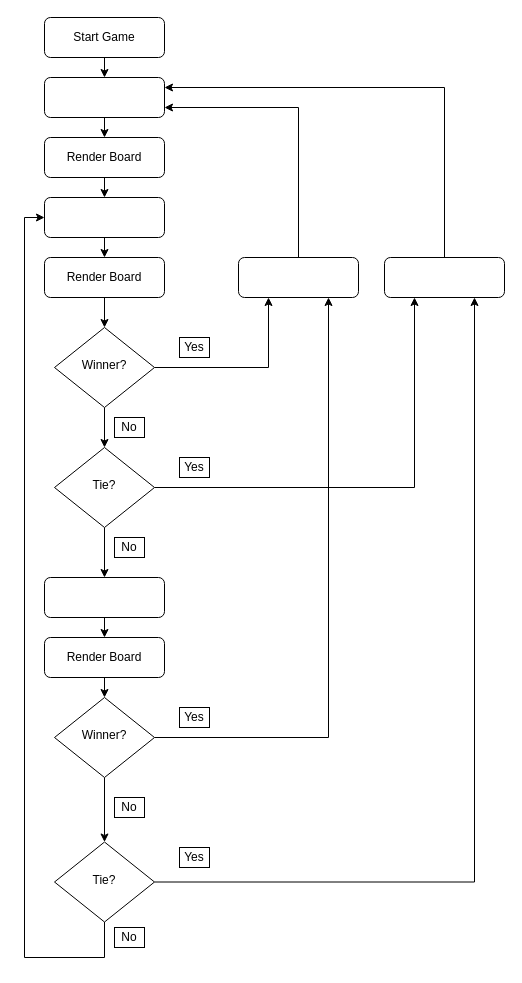
Image size: 522x983. Some labels were removed from this diagram. Each missing label, with the box of its shape:
Announce Tie: (384, 256, 504, 298)
Announce Winner: (238, 256, 358, 298)
Create New Board: (44, 76, 164, 118)
Get O's Move: (44, 576, 164, 618)
Get X's Move: (44, 196, 164, 238)
